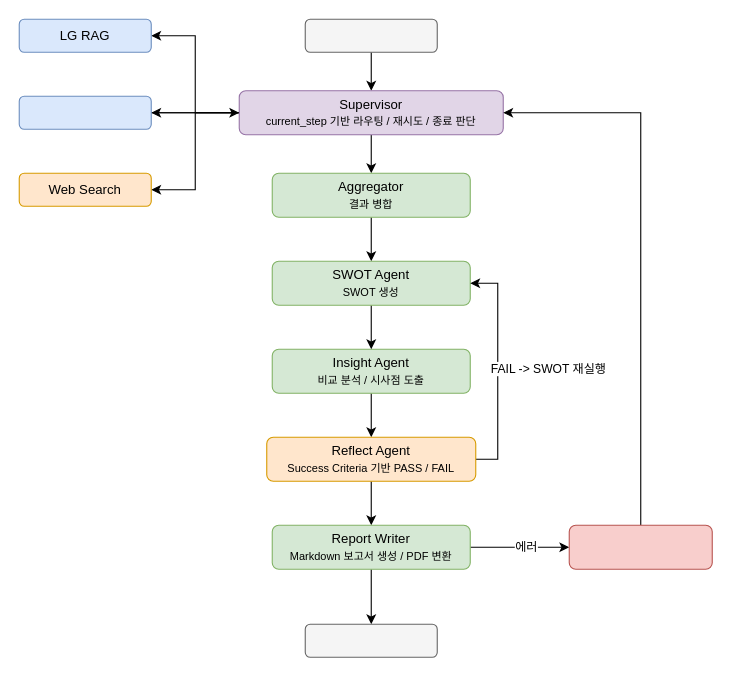
Some shapes in this 732 by 677 pixel diagram are drawn without their labels. Each missing label, with the box of its shape:
CATL RAG: (18, 95, 151, 129)
Error Handler retry / fallback: (568, 524, 712, 569)
User Query: (304, 18, 437, 52)
최종 보고서: (304, 623, 437, 657)
